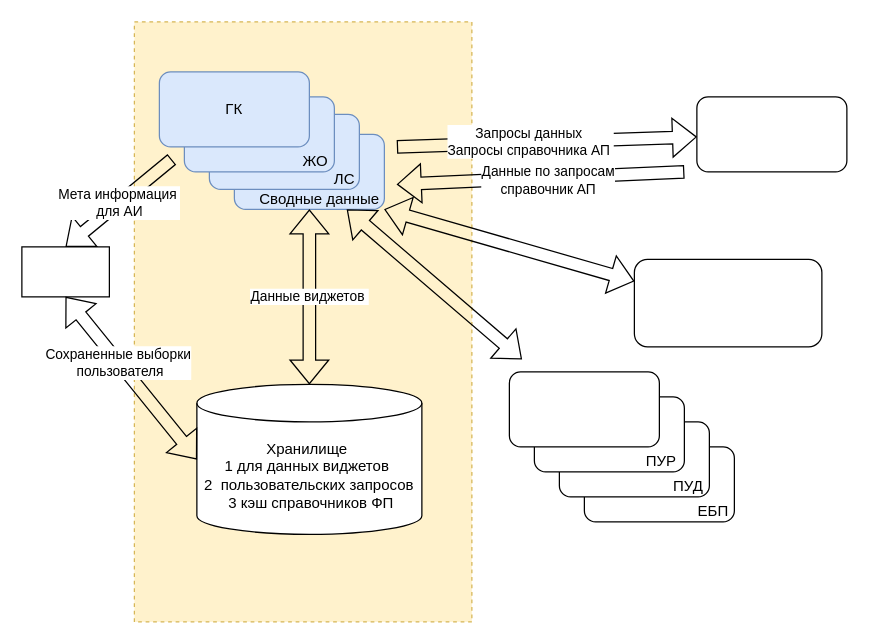
This 869x644 diagram has some shape labels left out. Each missing label, with the centre of its shape:
АИ: the point at 65,271
НСИ ведущая базовые справочники используемые для наполнения АП: the point at 727,302
Прочие ФП ведущие свои справочники используемые для наполнения АП: the point at 583,409
СВАП / ЕГК: the point at 771,134
